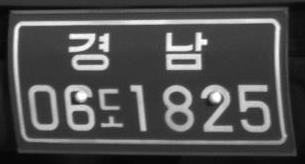0: (27, 83, 60, 132)
1: (127, 83, 152, 133)
2: (200, 83, 234, 133)
5: (236, 83, 272, 134)
6: (62, 82, 96, 132)
8: (161, 83, 195, 133)
경남_D: (68, 30, 209, 71)
도: (96, 86, 123, 129)
